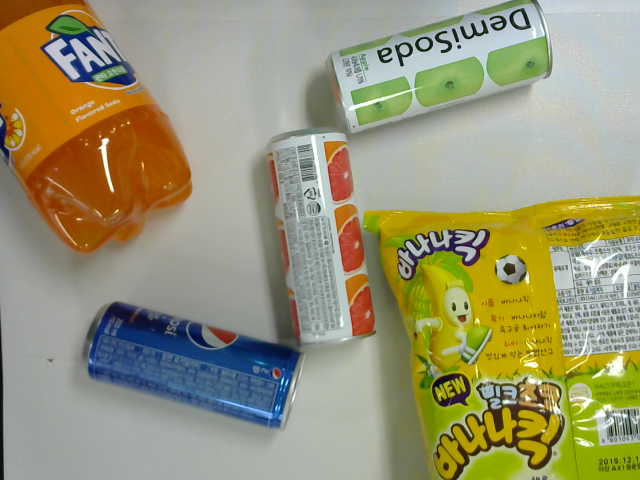Banana_Kick: (361, 196, 639, 480)
Demisoda_Apple_Can_250ml: (324, 1, 556, 136)
Demisoda_Grapefruit_Can_250ml: (265, 128, 379, 350)
Hwanta_Orange_1.5L: (1, 1, 195, 257)
Pepsi_Cola_Can_250ml: (79, 301, 307, 431)
